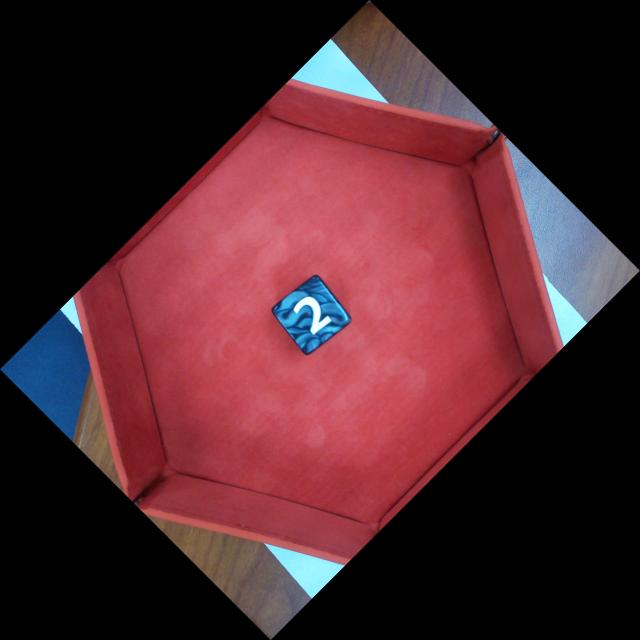dice: (270, 273, 353, 357)
